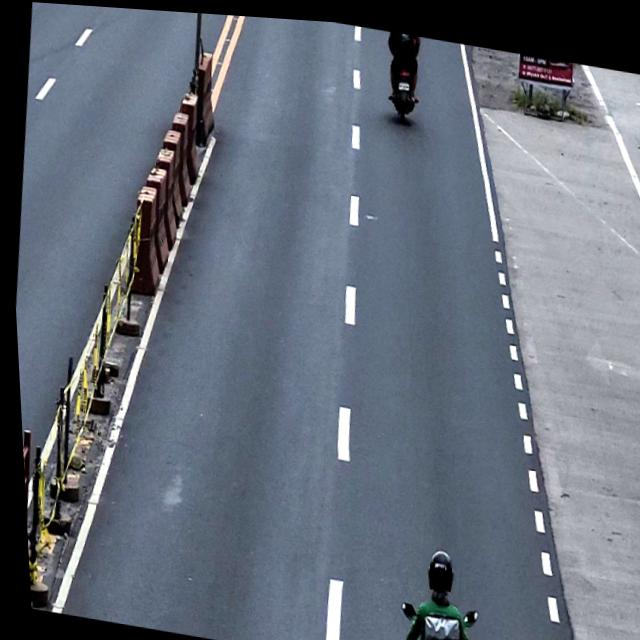License-Plate: (397, 75, 409, 87)
Motorcycle: (387, 591, 474, 640), (383, 50, 420, 119)
